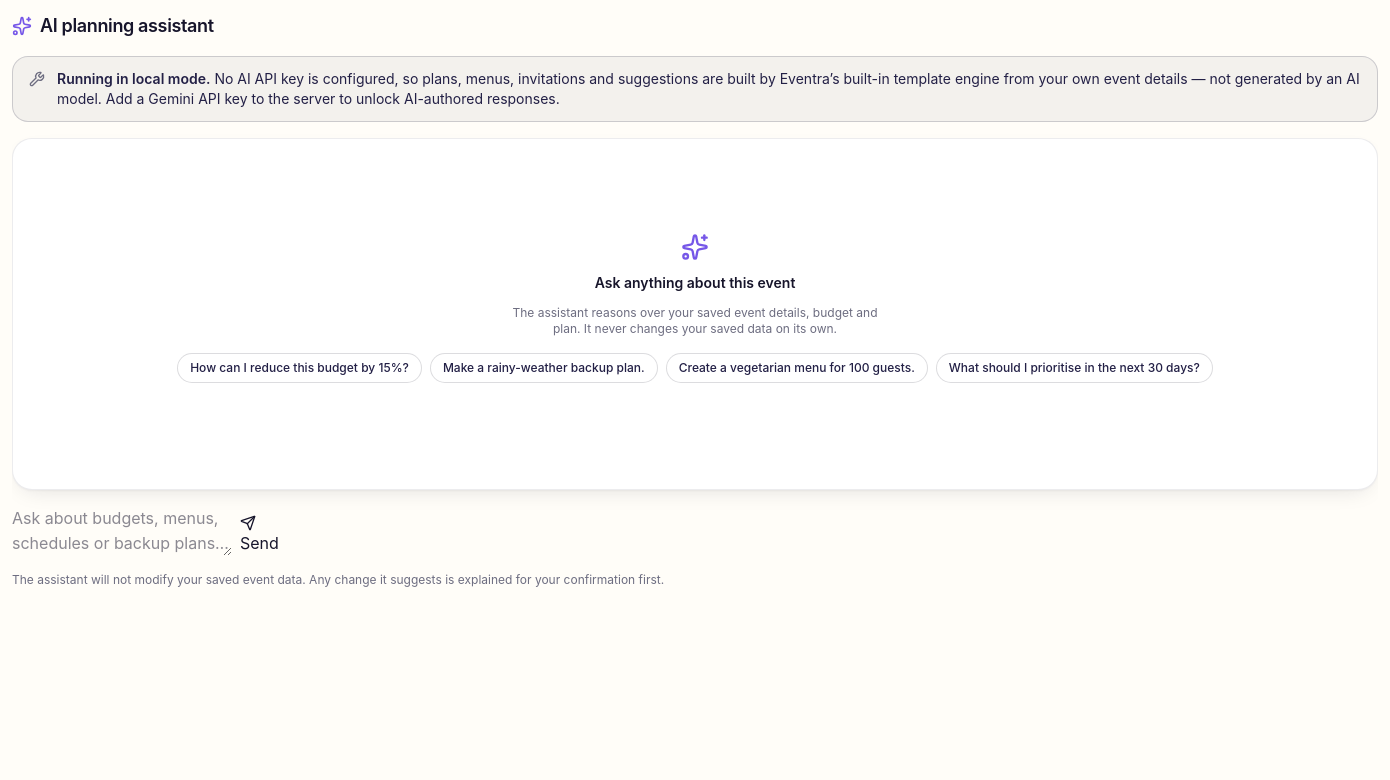
it: ChatPanel › falls back to a generic message for unexpected errors
Type "Hello?" into the text box named "Message the planning assistant".
click(122, 531); type("Hello?")  # box [12,506,232,556]
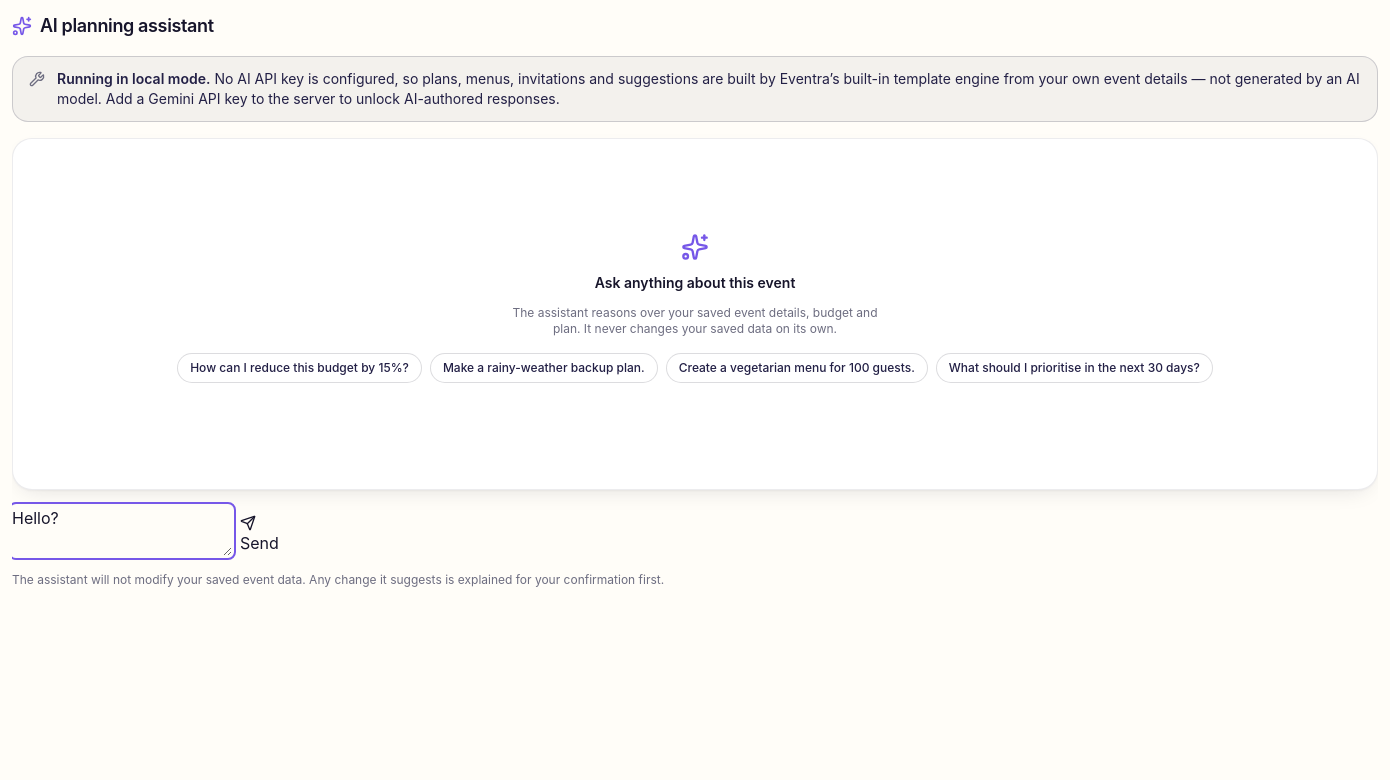
Click the button "Send".
click(259, 535)  # box [240,515,279,556]
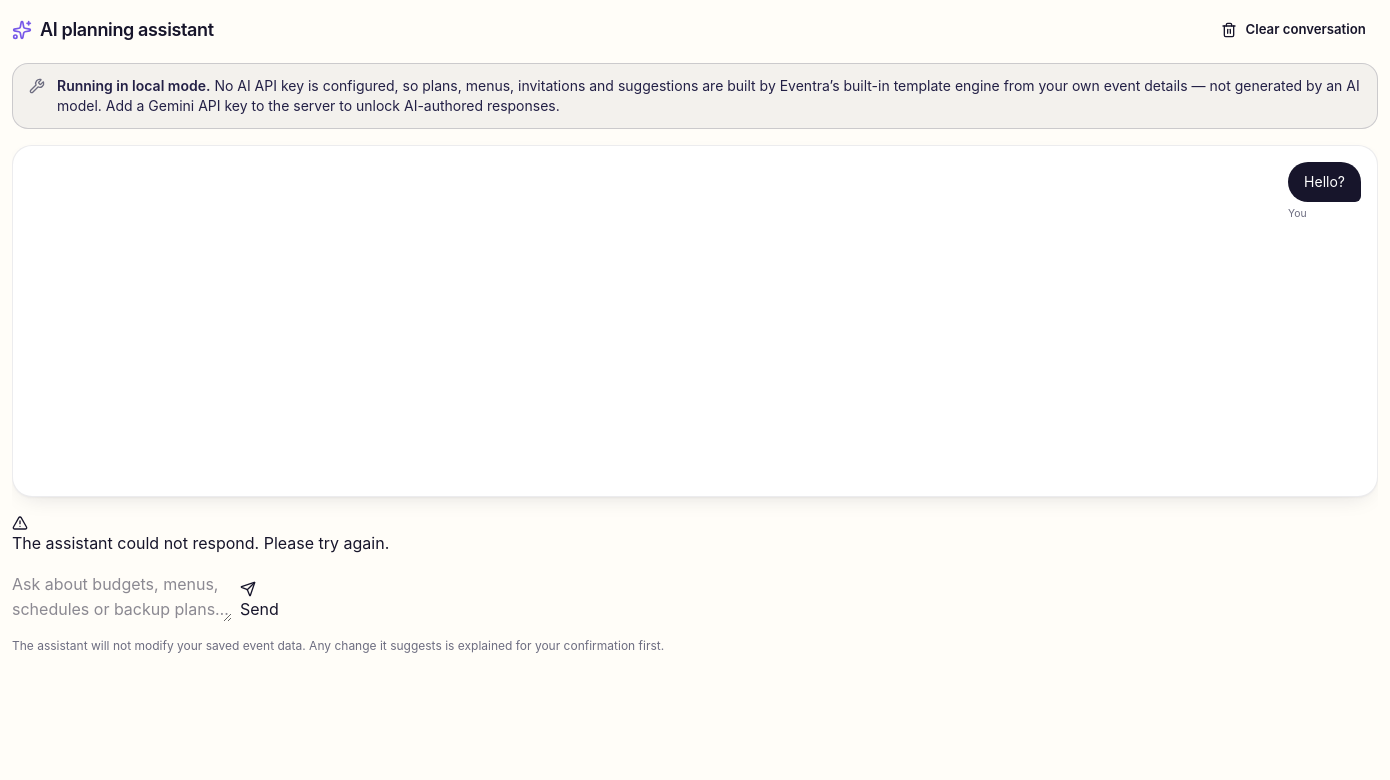
Expected: the message "The assistant could not respond. Please try again." is shown, [12,515,389,553]
Expected: the text "Hello?" is shown once, [1304,172,1345,192]
